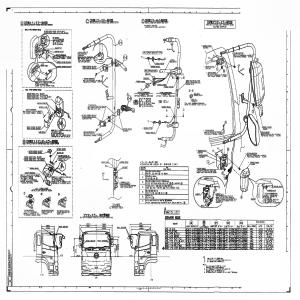PartNumber: (210, 247, 223, 250), (210, 240, 223, 243), (210, 235, 223, 238), (210, 230, 223, 233), (222, 247, 235, 250), (222, 235, 235, 238), (186, 247, 198, 250), (186, 242, 198, 245), (186, 237, 198, 240), (186, 235, 198, 238), (186, 230, 198, 233), (198, 247, 210, 250), (198, 242, 210, 245), (198, 240, 210, 243), (198, 235, 210, 238), (198, 230, 210, 233), (223, 242, 235, 245), (223, 240, 235, 243), (223, 228, 235, 231), (235, 247, 247, 250), (235, 240, 247, 243), (235, 235, 247, 238), (235, 230, 247, 233), (235, 228, 247, 231), (250, 161, 260, 164), (205, 65, 214, 68), (210, 245, 223, 247), (210, 242, 223, 244), (210, 238, 223, 240), (210, 233, 223, 235), (210, 228, 223, 230), (222, 245, 235, 247), (222, 233, 235, 235), (26, 108, 34, 111), (84, 77, 92, 80), (186, 245, 198, 247), (186, 240, 198, 242), (186, 233, 198, 235), (186, 228, 198, 230), (198, 245, 210, 247), (198, 238, 210, 240), (198, 233, 210, 235), (198, 228, 210, 230), (223, 238, 235, 240), (223, 231, 235, 233), (235, 245, 247, 247), (235, 243, 247, 245), (235, 238, 247, 240), (235, 233, 247, 235), (58, 154, 68, 156), (26, 92, 36, 94), (82, 67, 92, 69), (246, 152, 256, 154), (202, 45, 212, 47), (25, 172, 34, 174), (24, 159, 33, 161), (24, 158, 33, 160), (24, 156, 33, 158), (57, 148, 66, 150), (37, 102, 46, 104), (27, 96, 36, 98), (57, 66, 66, 68), (56, 54, 65, 56), (55, 50, 64, 52), (44, 32, 53, 34), (82, 114, 91, 116), (199, 154, 208, 156), (205, 130, 214, 132), (263, 126, 272, 128), (261, 132, 270, 134), (233, 52, 242, 54), (164, 86, 173, 88), (157, 84, 166, 86), (136, 80, 145, 82), (155, 62, 164, 64), (151, 66, 160, 68), (29, 152, 37, 154), (29, 150, 37, 152), (27, 126, 35, 128), (39, 106, 47, 108), (57, 61, 65, 63), (44, 30, 52, 32), (83, 66, 91, 68), (84, 131, 92, 133), (198, 150, 206, 152), (208, 72, 216, 74), (186, 82, 194, 84), (186, 80, 194, 82), (162, 106, 170, 108), (144, 127, 152, 129), (27, 98, 36, 99), (27, 95, 36, 96), (82, 116, 91, 117), (197, 168, 206, 169), (146, 132, 155, 133), (27, 128, 35, 129)
